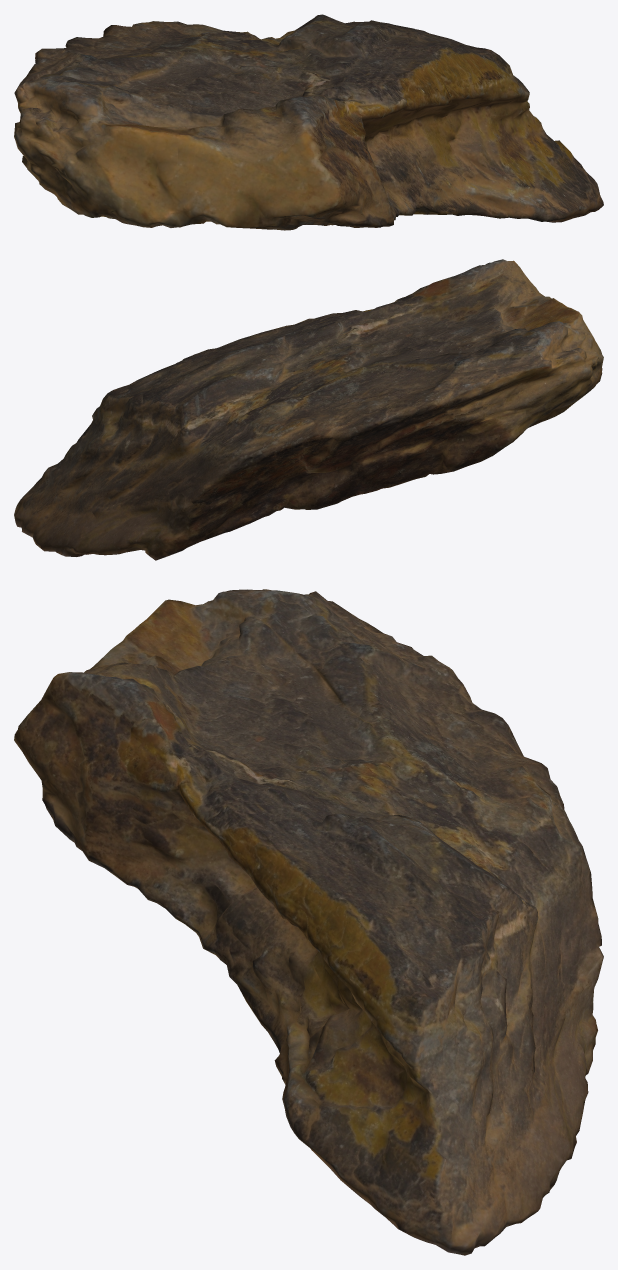
Rendered from corealm_sunder_ledge.glb.
The picture shows the model from 3 angles, top to bottom: view 1: azimuth 30°, elevation 25°; view 2: azimuth 150°, elevation 25°; view 3: azimuth 270°, elevation 25°; orthographic projection. The views are drawn at different scales.
Visible parts, largest first — view 1: original Rock 09; view 2: original Rock 09; view 3: original Rock 09.
Part boxes in pixels (x1,y1,x2,y2): original Rock 09: (14,14,603,230); original Rock 09: (14,259,603,560); original Rock 09: (14,589,603,1255).
Bounding box in the file's own units: 9.32 × 4.45 × 6.74.
1 material, 1 textured.
